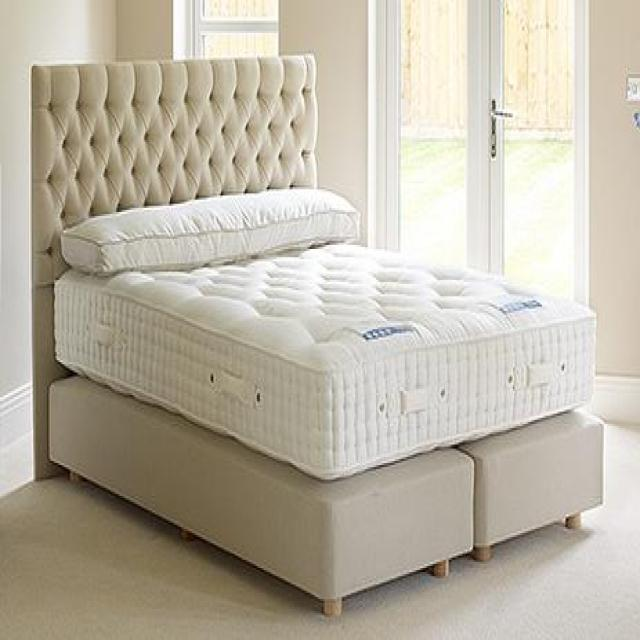bed: (29, 52, 604, 618)
